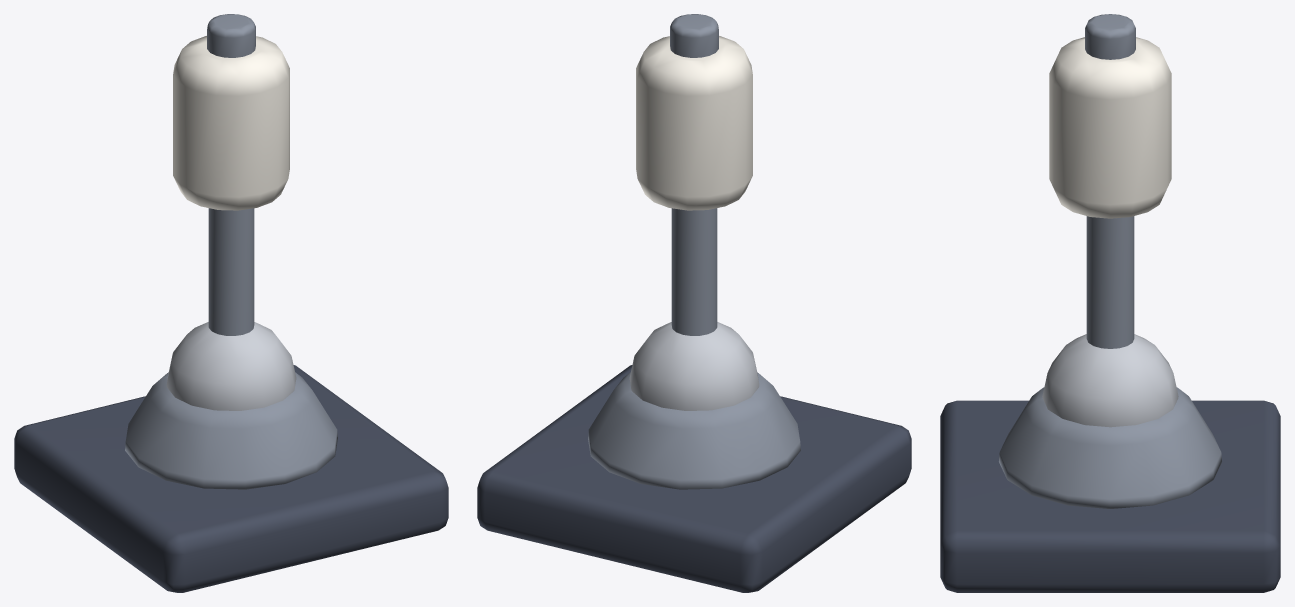
Rendered from Ctrl_AttitudeStick.fbx.
3 views of the same model, side by side, from view 1: azimuth 30°, elevation 25°; view 2: azimuth 150°, elevation 25°; view 3: azimuth 270°, elevation 25° (orthographic). The views are drawn at different scales.
Visible parts, largest first — view 1: Ctrl_AttitudeStick.Base, Ctrl_AttitudeStick.Move_Stick, Ctrl_AttitudeStick.Boot; view 2: Ctrl_AttitudeStick.Base, Ctrl_AttitudeStick.Move_Stick, Ctrl_AttitudeStick.Boot; view 3: Ctrl_AttitudeStick.Base, Ctrl_AttitudeStick.Move_Stick, Ctrl_AttitudeStick.Boot.
Boxes of the visible parts, bbox=[...] form: Ctrl_AttitudeStick.Base: bbox=[14, 365, 448, 592]; Ctrl_AttitudeStick.Move_Stick: bbox=[166, 14, 296, 410]; Ctrl_AttitudeStick.Boot: bbox=[125, 372, 337, 489]; Ctrl_AttitudeStick.Base: bbox=[477, 365, 911, 592]; Ctrl_AttitudeStick.Move_Stick: bbox=[629, 14, 759, 410]; Ctrl_AttitudeStick.Boot: bbox=[588, 372, 800, 489]; Ctrl_AttitudeStick.Base: bbox=[940, 400, 1280, 592]; Ctrl_AttitudeStick.Move_Stick: bbox=[1042, 14, 1178, 427]; Ctrl_AttitudeStick.Boot: bbox=[999, 387, 1221, 508].
Bounding box in the file's own units: 0.2 × 0.3275 × 0.2.
1 material, 1 textured.
